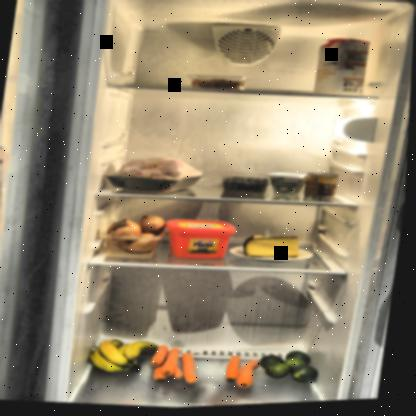banana: (95, 337, 162, 379)
blueberries: (222, 174, 273, 198)
butter: (164, 217, 242, 267)
carrot: (152, 345, 210, 390), (225, 355, 267, 394)
cheese: (243, 233, 309, 267)
chicken: (106, 150, 210, 198)
corn: (306, 174, 342, 206)
lime: (261, 347, 330, 391)
onion: (105, 211, 170, 259)
shrimp: (193, 77, 248, 96)
